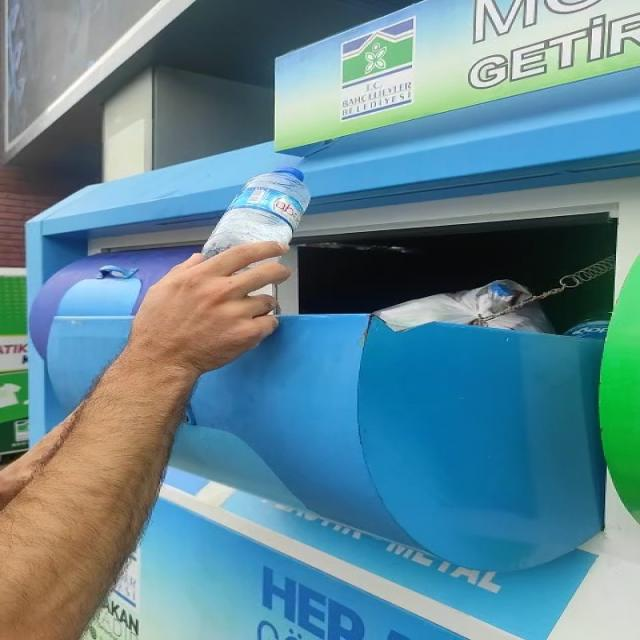plastic: (201, 167, 311, 257)
